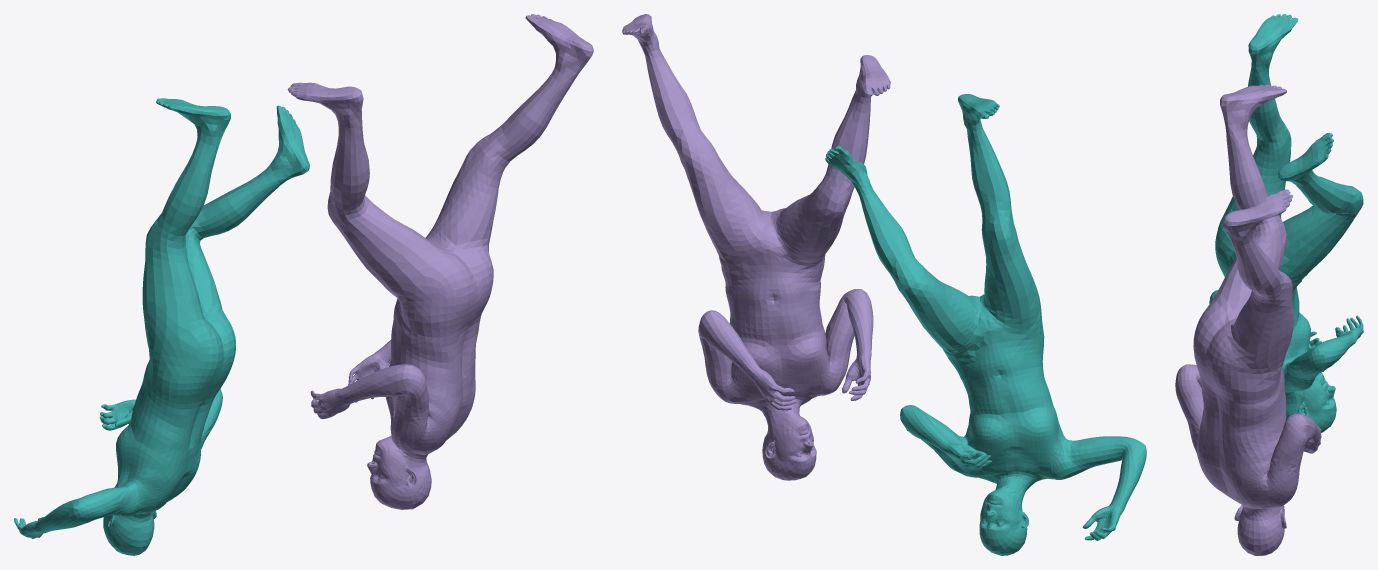
Rendered from all_people_native_world.glb.
The picture shows the model from 3 angles, left to right: view 1: azimuth 30°, elevation 25°; view 2: azimuth 150°, elevation 25°; view 3: azimuth 270°, elevation 25°; orthographic projection. The views are drawn at different scales.
Parts seen in each view (by area): view 1: persistent_id_2_slot_0, persistent_id_1_slot_1; view 2: persistent_id_2_slot_0, persistent_id_1_slot_1; view 3: persistent_id_2_slot_0, persistent_id_1_slot_1.
Part boxes in pixels (x1=…): persistent_id_2_slot_0: x1=287, y1=14, x2=593, y2=509; persistent_id_1_slot_1: x1=14, y1=98, x2=309, y2=555; persistent_id_2_slot_0: x1=622, y1=14, x2=890, y2=480; persistent_id_1_slot_1: x1=825, y1=94, x2=1146, y2=555; persistent_id_2_slot_0: x1=1175, y1=85, x2=1321, y2=555; persistent_id_1_slot_1: x1=1209, y1=14, x2=1363, y2=432.
Size of the model in its own units: 2.06 by 1.67 by 0.6567.
